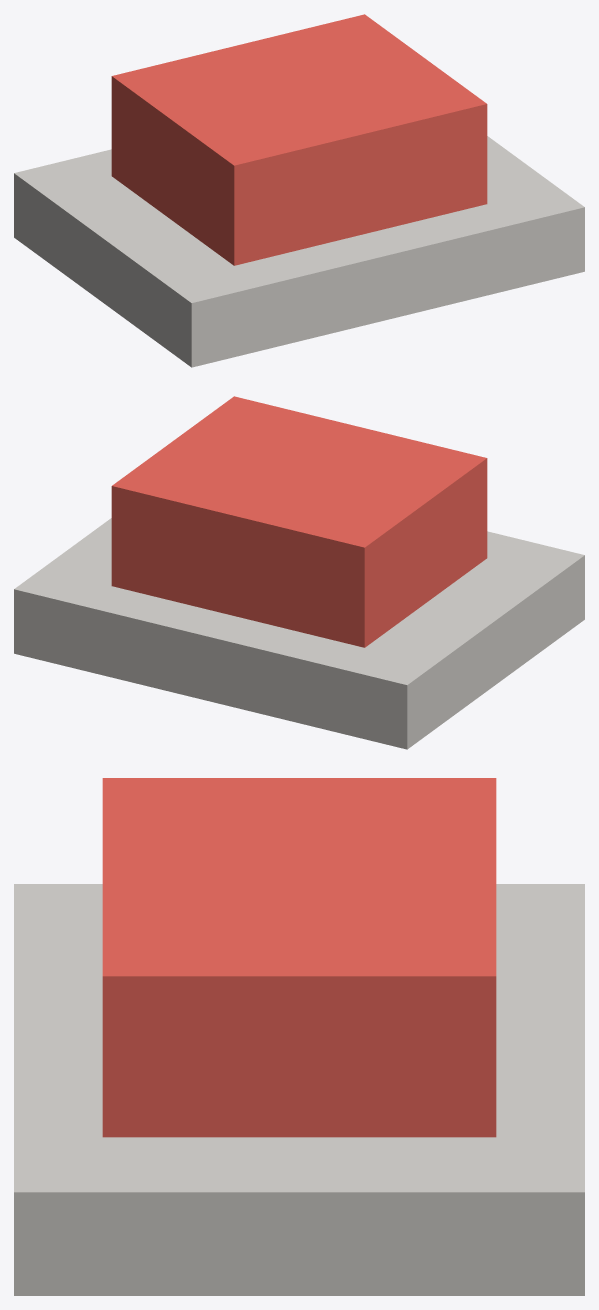
The model's file is training_corner-lv1.glb.
3 renders of one model, top to bottom at view 1: azimuth 30°, elevation 25°; view 2: azimuth 150°, elevation 25°; view 3: azimuth 270°, elevation 25°, orthographic. The views are drawn at different scales.
Parts seen in each view (by area): view 1: Level1, Base; view 2: Level1, Base; view 3: Level1, Base.
Boxes of the visible parts, x1=… form: Level1: x1=111, y1=14, x2=487, y2=265; Base: x1=14, y1=136, x2=584, y2=367; Level1: x1=111, y1=396, x2=487, y2=647; Base: x1=14, y1=518, x2=584, y2=749; Level1: x1=102, y1=778, x2=496, y2=1137; Base: x1=14, y1=884, x2=584, y2=1295.
Size of the model in its own units: 1.15 by 0.46 by 0.9.
